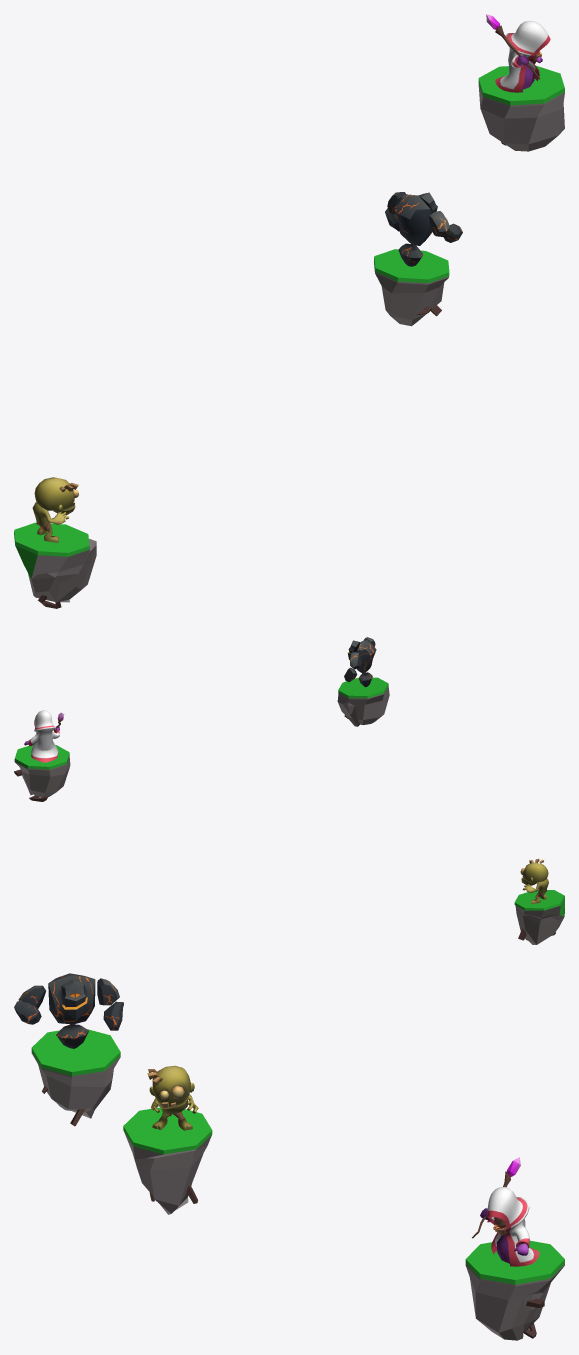
The model's file is rocks.glb.
3 views of the same model, one above another, from view 1: azimuth 30°, elevation 25°; view 2: azimuth 150°, elevation 25°; view 3: azimuth 270°, elevation 25° (orthographic). The views are drawn at different scales.
Parts seen in each view (by area): view 1: rock.002, rock, golem, wizard, rock.001, grass, zombie1, grass.001; view 2: rock.002, rock.001, wizard, rock, golem, zombie1, grass.001, grass; view 3: rock.002, golem, rock, wizard, grass.001, grass, rock.001, zombie1.
Part boxes in pixels (box(x1,y1,x2,y2)): rock.002: box(14, 522, 96, 602); rock: box(478, 83, 564, 151); golem: box(385, 192, 462, 266); wizard: box(495, 20, 550, 92); rock.001: box(374, 262, 448, 326); grass: box(478, 65, 564, 105); zombie1: box(32, 477, 78, 542); grass.001: box(374, 249, 449, 283); rock.002: box(514, 889, 564, 944); rock.001: box(337, 686, 389, 726); wizard: box(24, 710, 59, 762); rock: box(14, 756, 70, 797); golem: box(344, 637, 376, 687); zombie1: box(520, 858, 548, 903); grass.001: box(338, 677, 388, 698); grass: box(14, 745, 69, 769); rock.002: box(123, 1107, 212, 1214); golem: box(14, 973, 123, 1048); rock: box(465, 1264, 564, 1340); wizard: box(480, 1187, 539, 1266); grass.001: box(31, 1029, 120, 1075); grass: box(465, 1240, 564, 1284); rock.001: box(31, 1052, 120, 1118); zombie1: box(147, 1065, 198, 1130).
Size of the model in its own units: 18.08 by 9 by 11.1.
6 materials, 3 textured.
